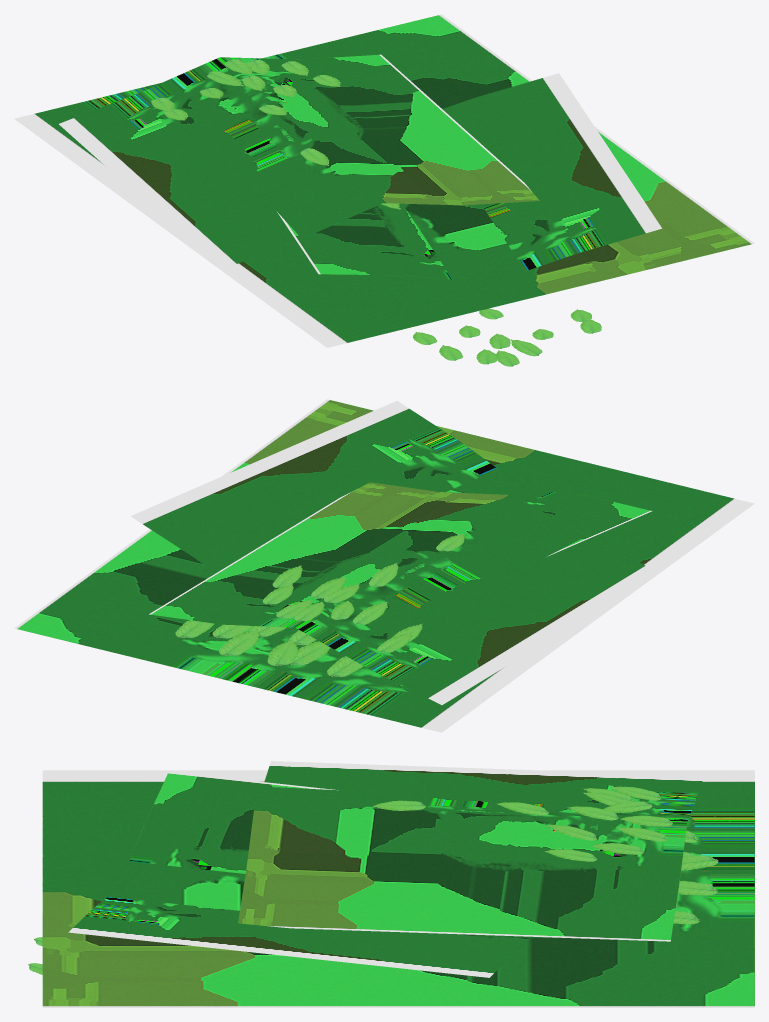
File: vine02.FBX
3 views of the same model, one above another, from view 1: azimuth 30°, elevation 25°; view 2: azimuth 150°, elevation 25°; view 3: azimuth 270°, elevation 25° (orthographic). The views are drawn at different scales.
Parts seen in each view (by area): view 1: Plane004, Plane001, Plane006, Plane005, Plane007; view 2: Plane004, Plane001, Plane006, Plane005, Plane002; view 3: Plane001, Plane004, Plane006, Plane005, Plane002.
Boxes of the visible parts, bbox=[...] form: Plane004: bbox=[59, 54, 539, 269]; Plane001: bbox=[14, 14, 754, 347]; Plane006: bbox=[277, 73, 661, 279]; Plane005: bbox=[151, 59, 340, 165]; Plane007: bbox=[413, 308, 601, 366]; Plane004: bbox=[149, 482, 659, 704]; Plane001: bbox=[14, 399, 754, 732]; Plane006: bbox=[130, 401, 652, 572]; Plane005: bbox=[262, 533, 464, 652]; Plane002: bbox=[175, 620, 363, 676]; Plane001: bbox=[42, 770, 754, 1007]; Plane004: bbox=[238, 761, 703, 941]; Plane006: bbox=[68, 772, 528, 977]; Plane005: bbox=[372, 786, 672, 861]; Plane002: bbox=[673, 830, 718, 924].
Bounding box in the file's own units: 219 × 56.98 × 286.
Materials: 2 (2 with a texture image).
